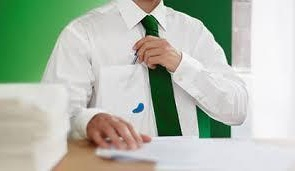ink: (133, 102, 145, 113)
